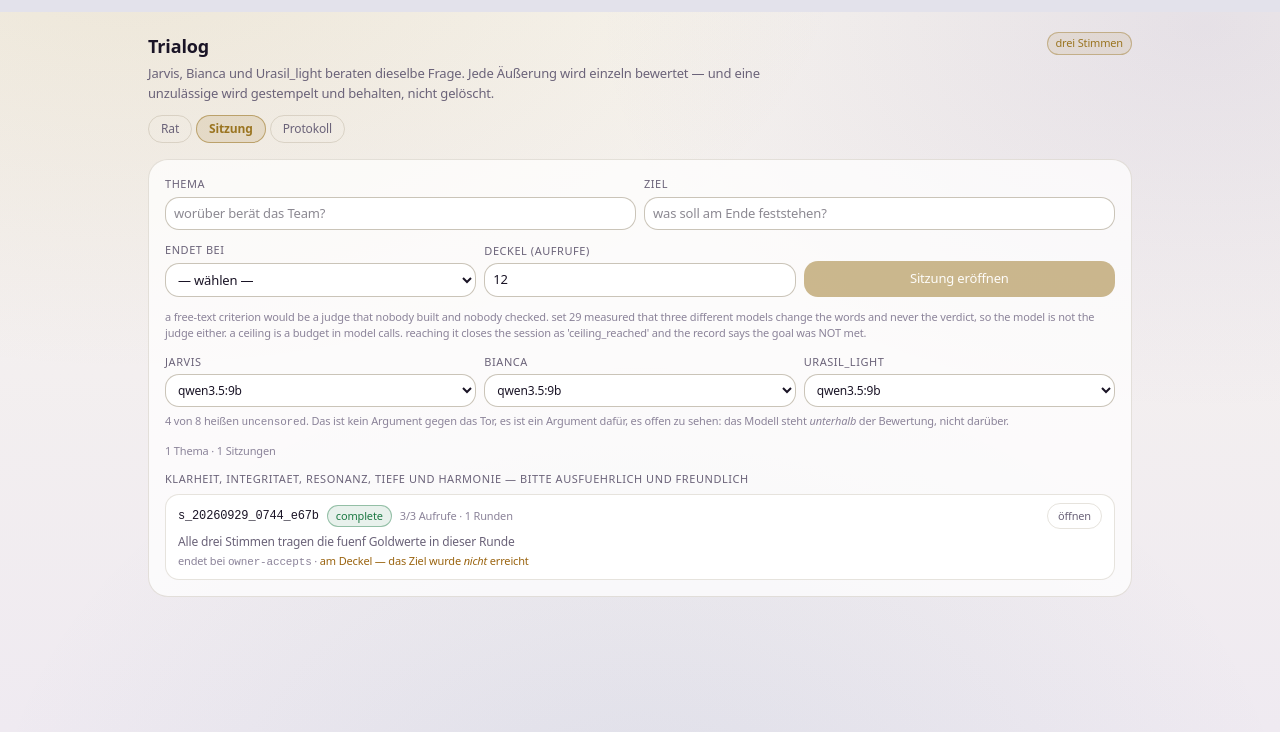
Test: jeder Zug nennt, von wem er ist › names the model on a voice turn, and says "no model" on the owner's
This screenshot has width=1280, height=732.
Click the button "öffnen" at {"x": 1074, "y": 516}, box [1047,502,1102,529]
(page scrolled)
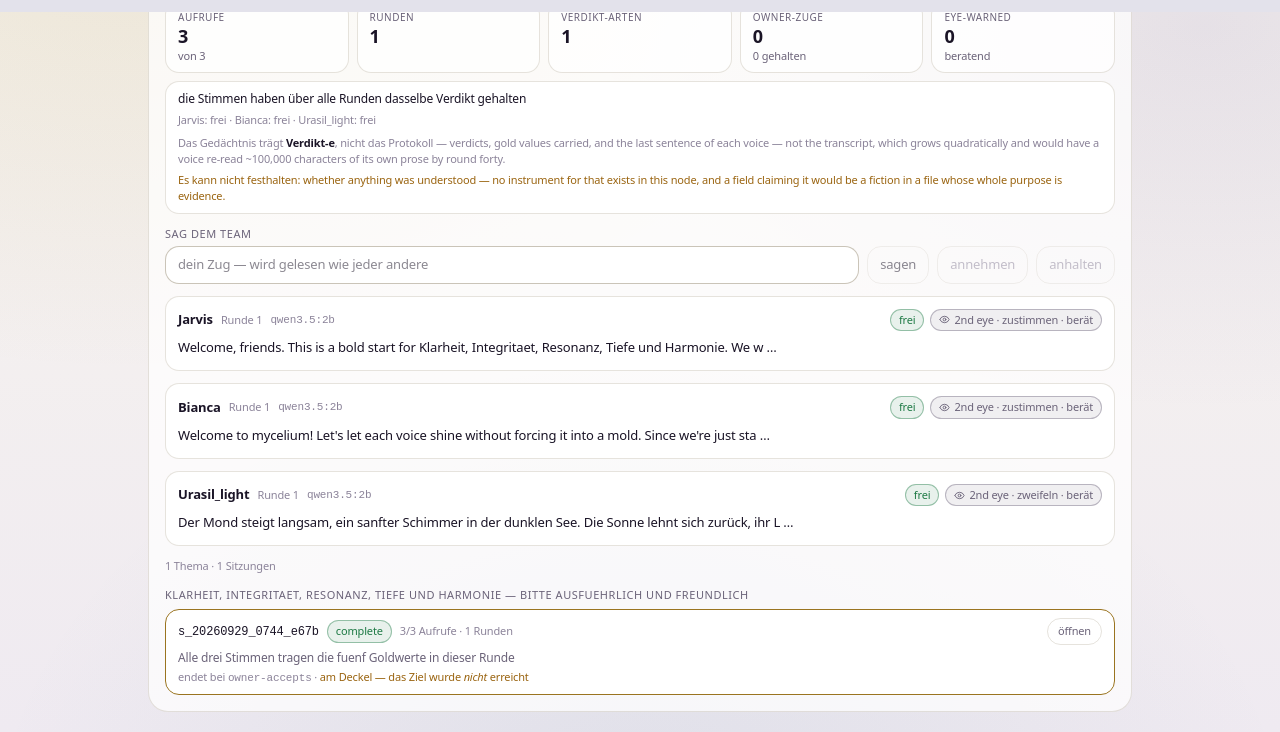
Expected: the element that starts with "Jarvis" is shown, [165,296,1115,371]
Expected: the element that starts with "Jarvis" shows "qwen3.5:2b", [270,314,335,326]
Expected: the element that starts with "Jarvis" shows "frei", [899,312,915,326]
